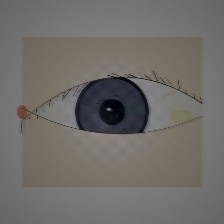pinguecula_lesion: (158, 98, 204, 135)
